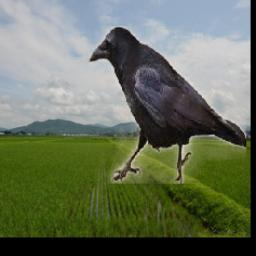Crow: (89, 26, 246, 184)
